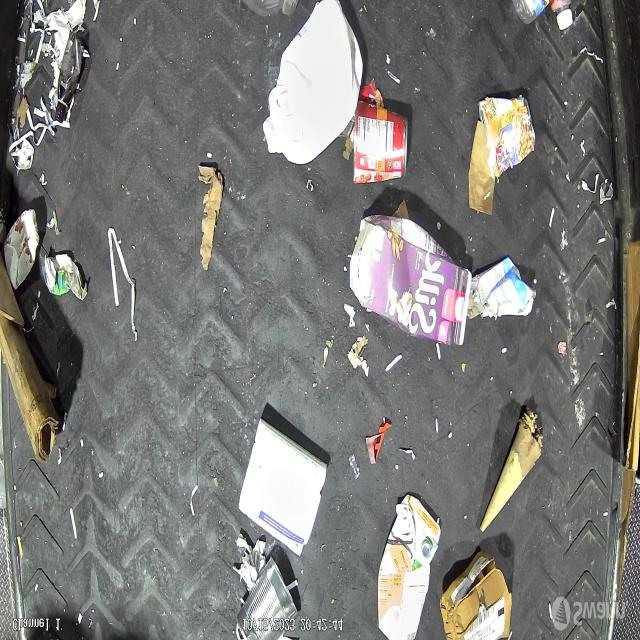can: (236, 556, 299, 640), (352, 100, 409, 186), (478, 96, 536, 179), (3, 208, 40, 290)
milk_jug: (262, 0, 364, 166)
non_white_jug: (350, 211, 472, 346), (375, 492, 440, 640)
